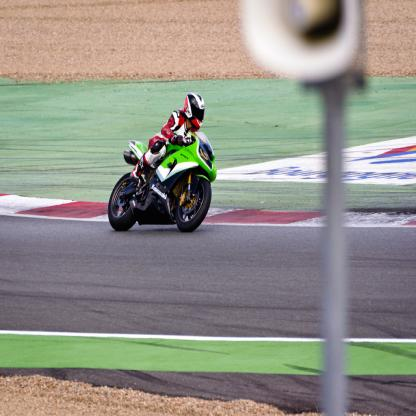Helmet: (179, 94, 204, 128)
